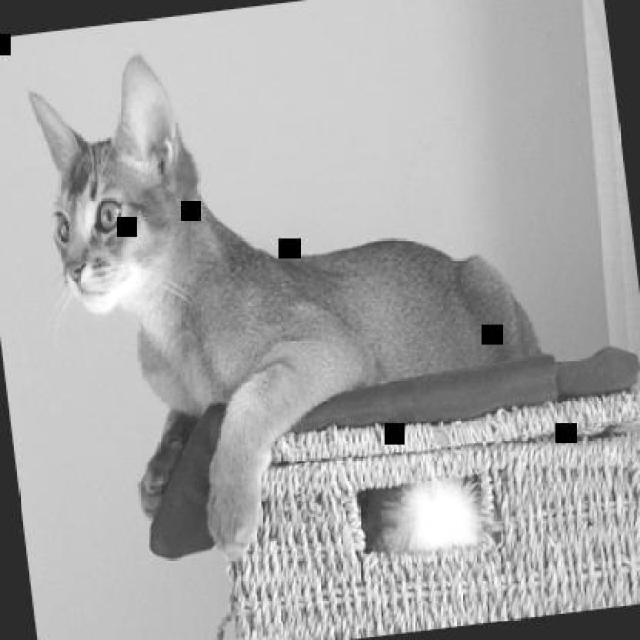cat: (24, 7, 561, 575)
